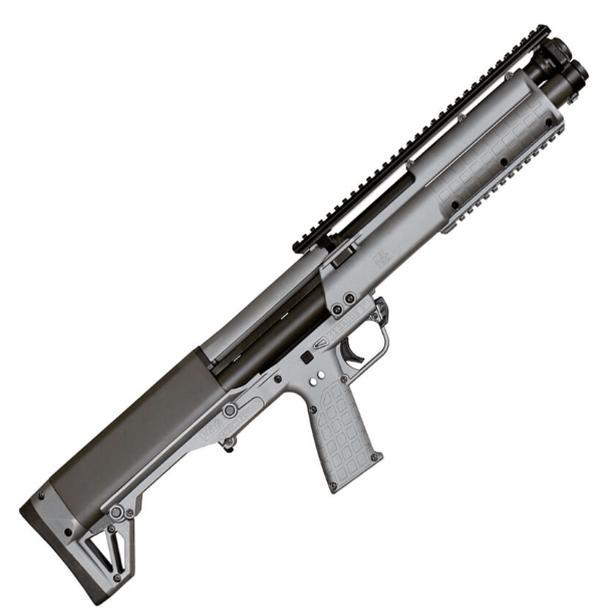Firearm: (16, 13, 600, 608)
